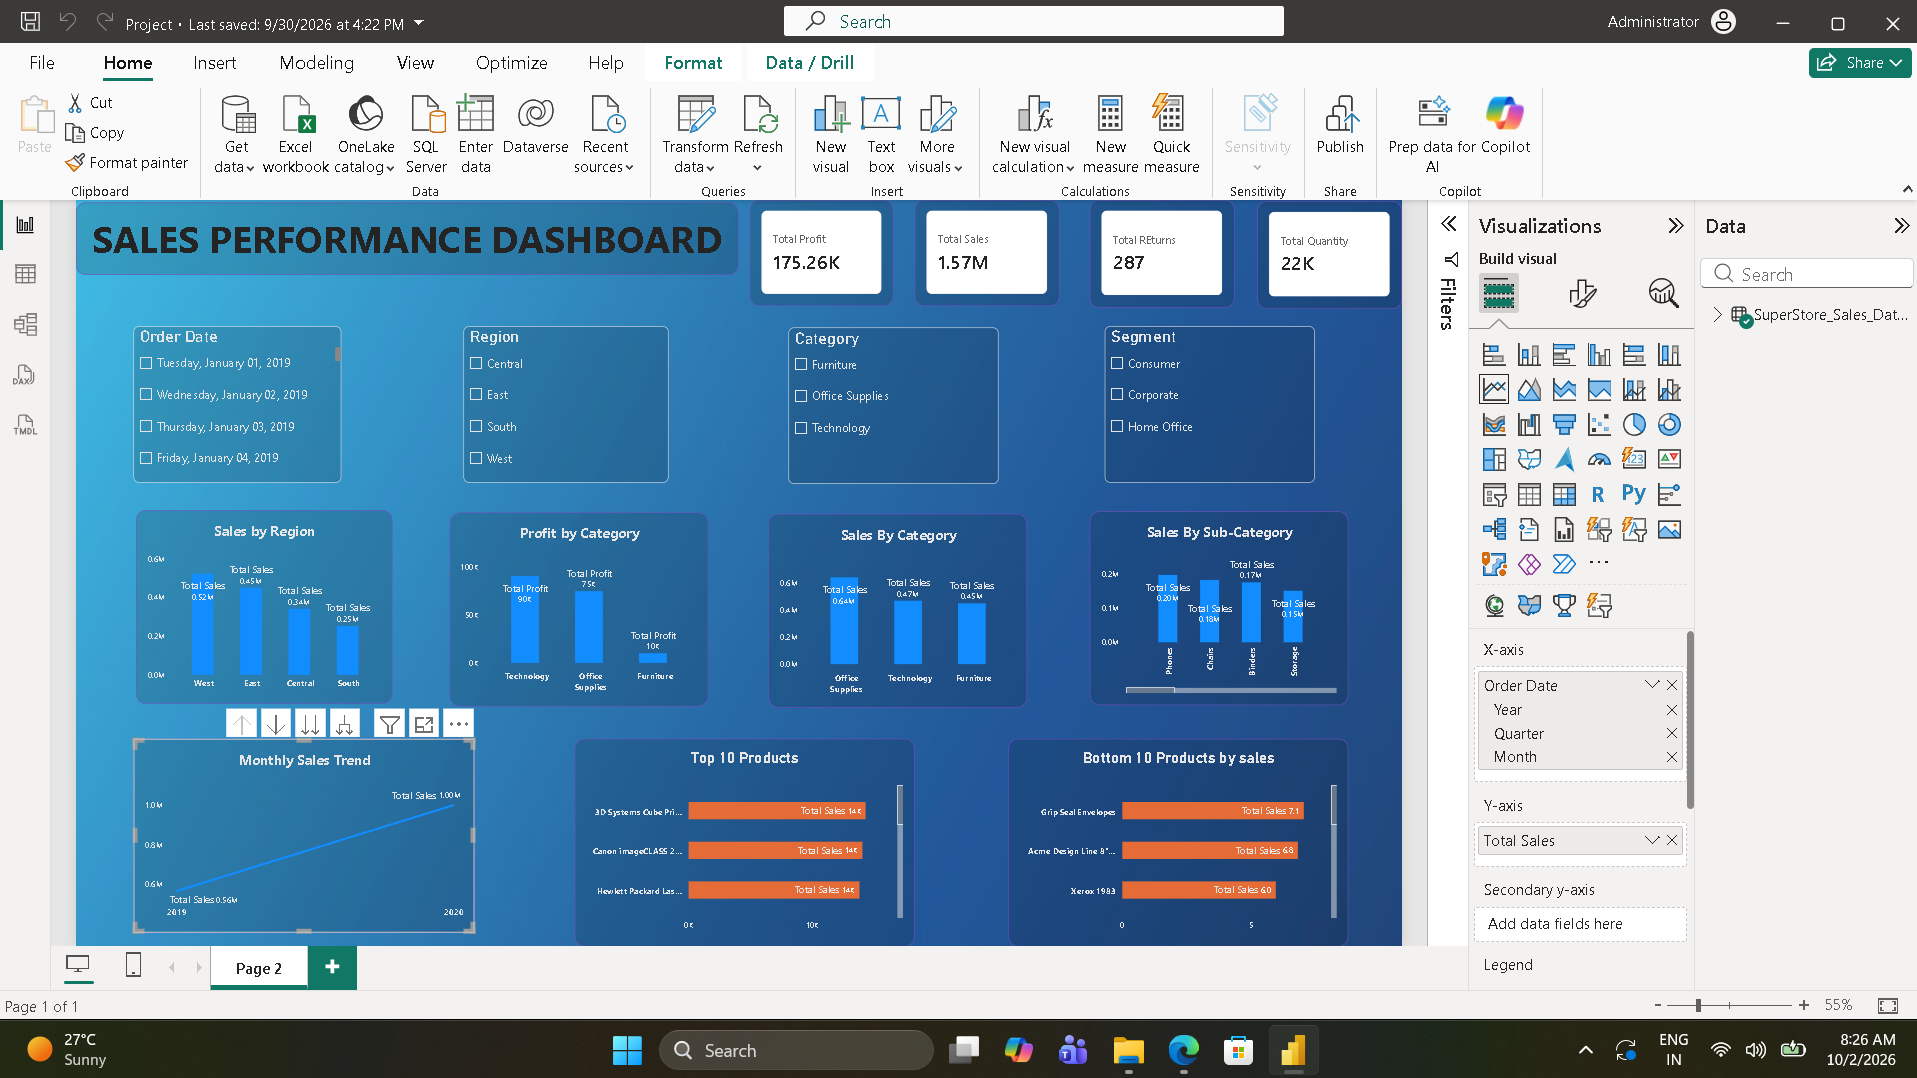

What the dashboard file says about the page in this screenshot:
{"tool":"powerbi","page":{"name":"Page 2","canvas":[1920,1080],"ordinal":0},"visuals":[{"type":"cardVisual","fields":{"Data":["SuperStore_Sales_Dataset.Total Profit"]},"box":[975.4,0,208.1,153.8],"z":0},{"type":"cardVisual","fields":{"Data":["SuperStore_Sales_Dataset.Total Sales"]},"box":[1214.3,0,209.9,153.8],"z":1000},{"type":"cardVisual","fields":{"Data":["SuperStore_Sales_Dataset.Total REturns"]},"box":[1467.6,0,209.9,155.6],"z":2000},{"type":"cardVisual","fields":{"Data":["SuperStore_Sales_Dataset.Total Quantity"]},"box":[1710.1,1.8,209.9,155.6],"z":3000},{"type":"lineChart","title":"Monthly Sales Trend","fields":{"Category":["SuperStore_Sales_Dataset.Order Date.Variation.Date Hierarchy.Year","SuperStore_Sales_Dataset.Order Date.Variation.Date Hierarchy.Quarter","SuperStore_Sales_Dataset.Order Date.Variation.Date Hierarchy.Month"],"Y":["SuperStore_Sales_Dataset.Total Sales"]},"box":[86.9,780,494,280.5],"z":4000},{"type":"clusteredColumnChart","title":"Sales By Category","fields":{"Category":["SuperStore_Sales_Dataset.Category"],"Y":["SuperStore_Sales_Dataset.Total Sales"]},"box":[1002.6,454.2,374.6,280.5],"z":5000},{"type":"clusteredColumnChart","title":"Sales by Region","fields":{"Category":["SuperStore_Sales_Dataset.Region"],"Y":["SuperStore_Sales_Dataset.Total Sales"]},"box":[86.9,448.8,371,280.5],"z":6000},{"type":"clusteredColumnChart","title":"Profit by Category","fields":{"Category":["SuperStore_Sales_Dataset.Category"],"Y":["SuperStore_Sales_Dataset.Total Profit"]},"box":[541.1,452.4,374.6,280.5],"z":7000},{"type":"barChart","title":" Top 10 Products","fields":{"Category":["SuperStore_Sales_Dataset.Product Name"],"Y":["SuperStore_Sales_Dataset.Total Sales"]},"box":[722.1,780,492.2,300.4],"z":8000},{"type":"barChart","title":"Bottom 10 Products by sales","fields":{"Category":["SuperStore_Sales_Dataset.Product Name"],"Y":["SuperStore_Sales_Dataset.Total Sales"]},"box":[1350,780,492.2,300.4],"z":9000},{"type":"clusteredColumnChart","title":"Sales By Sub-Category","fields":{"Category":["SuperStore_Sales_Dataset.Sub-Category"],"Y":["SuperStore_Sales_Dataset.Total Sales"]},"box":[1467.6,450.6,374.6,280.5],"z":10000},{"type":"slicer","fields":{"Values":["SuperStore_Sales_Dataset.Order Date"]},"box":[83.2,182.8,300.4,226.2],"z":11000},{"type":"slicer","fields":{"Values":["SuperStore_Sales_Dataset.Region"]},"box":[561,182.8,296.8,226.2],"z":12000},{"type":"slicer","fields":{"Values":["SuperStore_Sales_Dataset.Category"]},"box":[1031.5,184.6,304,226.2],"z":13000},{"type":"slicer","fields":{"Values":["SuperStore_Sales_Dataset.Segment"]},"box":[1489.4,182.8,304,226.2],"z":14000},{"type":"textbox","box":[0,3.6,959.1,105],"z":14001}]}

Visuals, with their boxes on the page's 1920x1080 design canvas (x1, y1, x2, y2). These are canvas units, not pixel positions in the 1917x1078 screenshot, which may show the page scaled, cropped or inside an application window:
cardVisual - SuperStore_Sales_Dataset.Total Profit: x1=975, y1=0, x2=1184, y2=154
cardVisual - SuperStore_Sales_Dataset.Total Sales: x1=1214, y1=0, x2=1424, y2=154
cardVisual - SuperStore_Sales_Dataset.Total REturns: x1=1468, y1=0, x2=1678, y2=156
cardVisual - SuperStore_Sales_Dataset.Total Quantity: x1=1710, y1=2, x2=1920, y2=157
"Monthly Sales Trend" lineChart: x1=87, y1=780, x2=581, y2=1060
"Sales By Category" clusteredColumnChart: x1=1003, y1=454, x2=1377, y2=735
"Sales by Region" clusteredColumnChart: x1=87, y1=449, x2=458, y2=729
"Profit by Category" clusteredColumnChart: x1=541, y1=452, x2=916, y2=733
" Top 10 Products" barChart: x1=722, y1=780, x2=1214, y2=1080
"Bottom 10 Products by sales" barChart: x1=1350, y1=780, x2=1842, y2=1080
"Sales By Sub-Category" clusteredColumnChart: x1=1468, y1=451, x2=1842, y2=731
slicer - SuperStore_Sales_Dataset.Order Date: x1=83, y1=183, x2=384, y2=409
slicer - SuperStore_Sales_Dataset.Region: x1=561, y1=183, x2=858, y2=409
slicer - SuperStore_Sales_Dataset.Category: x1=1032, y1=185, x2=1336, y2=411
slicer - SuperStore_Sales_Dataset.Segment: x1=1489, y1=183, x2=1793, y2=409
textbox: x1=0, y1=4, x2=959, y2=109
